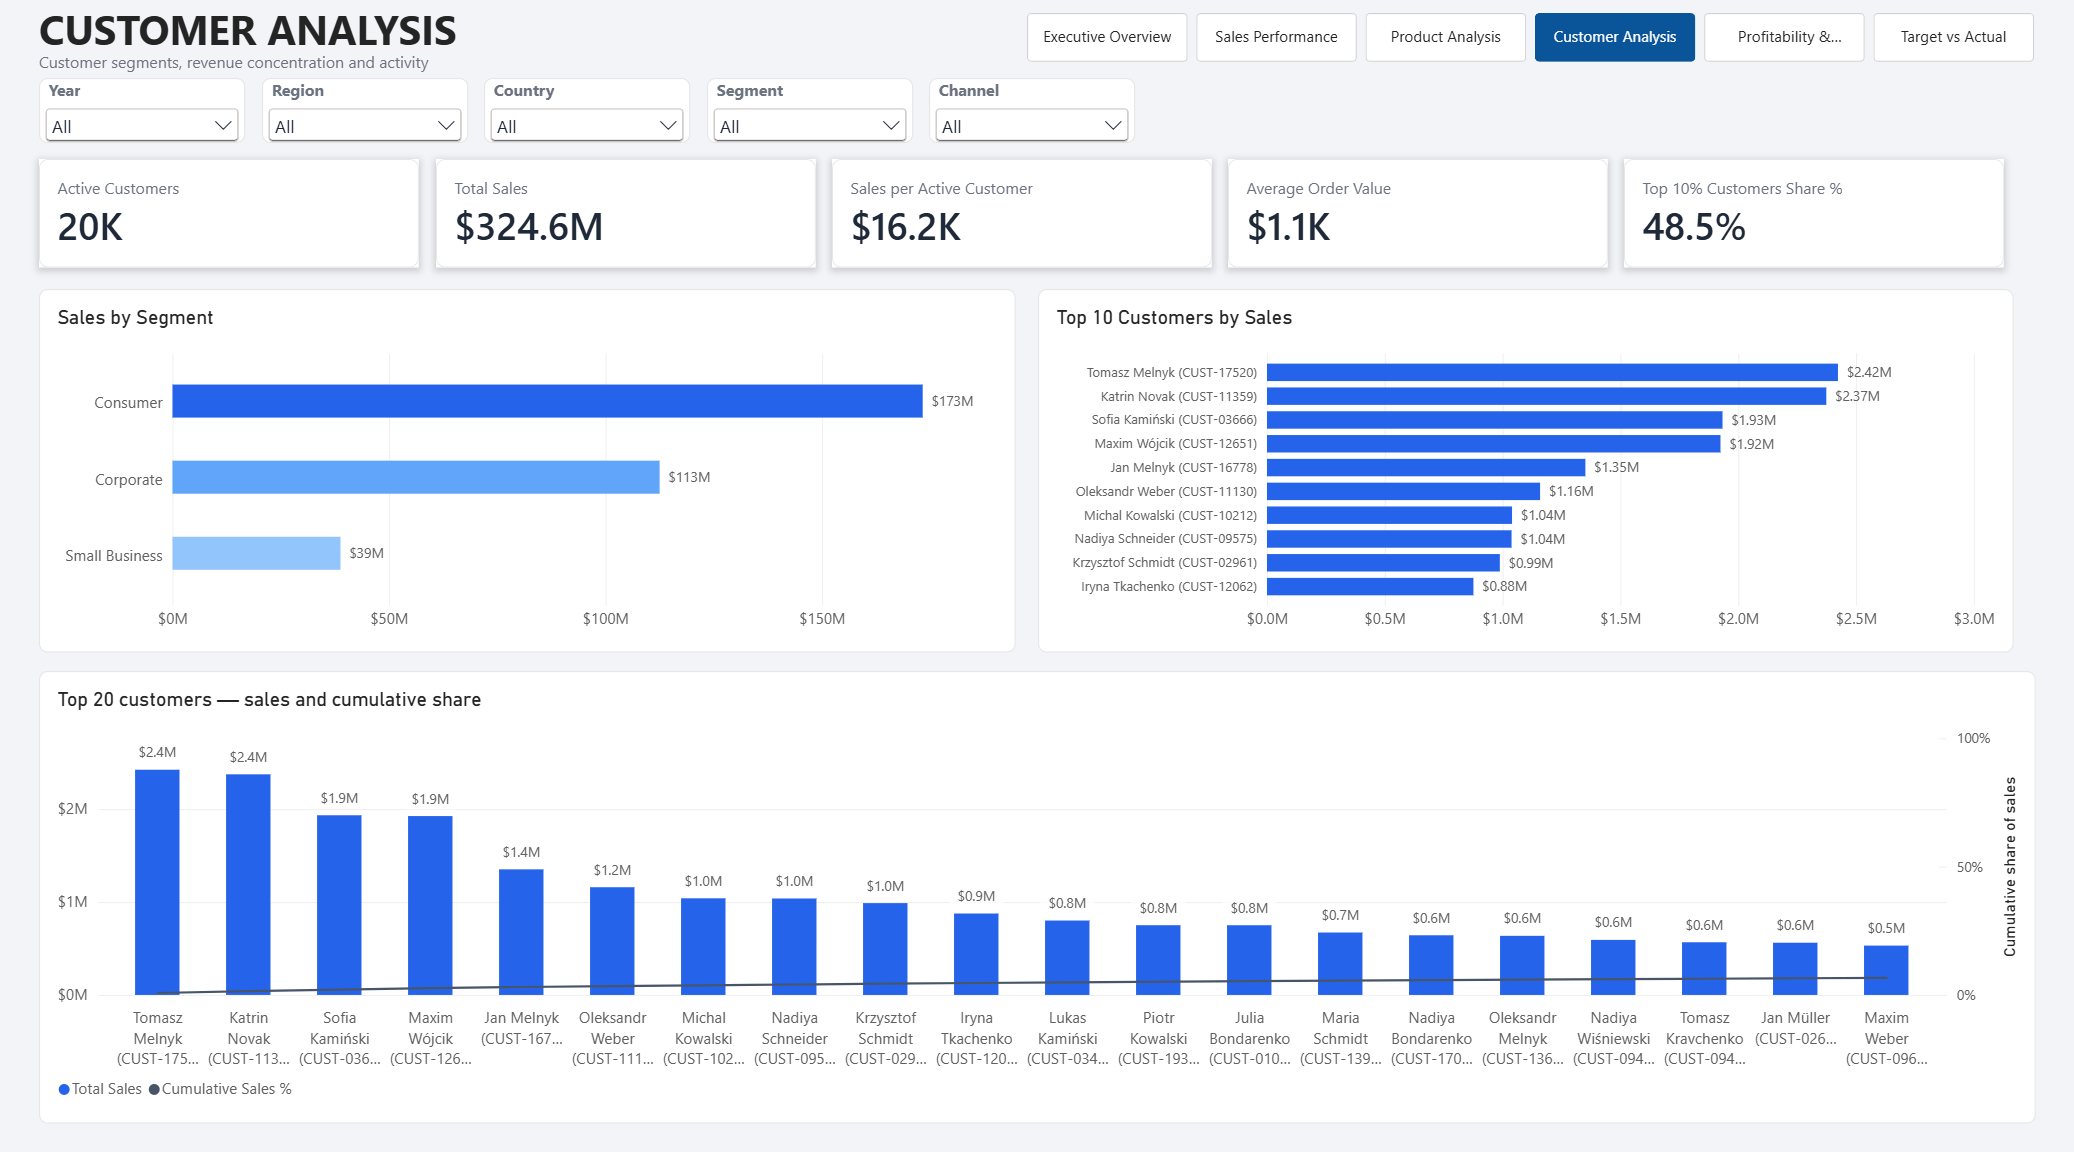

The dashboard page shown, as its layout file describes it:
{"tool":"powerbi","page":{"name":"Customer Analysis","canvas":[1920,1080],"ordinal":3},"visuals":[{"type":"slicer","fields":{"Values":["DimCustomers.Segment"]},"box":[655,80,190,60],"z":0},{"type":"slicer","fields":{"Values":["DimCustomers.Country"]},"box":[450,80.5,190,60],"z":1000},{"type":"barChart","title":"Sales by Segment","fields":{"Category":["DimCustomers.Segment"],"Y":["_Measures.Total Sales"]},"box":[39.6,274.6,900.3,335.4],"z":2000},{"type":"barChart","title":"Top 10 Customers by Sales","fields":{"Category":["DimCustomers.Customer Label"],"Y":["_Measures.Total Sales"]},"box":[960.2,274.6,899.4,335.4],"z":3000},{"type":"lineClusteredColumnComboChart","title":"Top 20 customers — sales and cumulative share","fields":{"Category":["DimCustomers.Customer Label"],"Y":["_Measures.Total Sales"],"Y2":["_Measures.Cumulative Sales %"]},"box":[39.6,626.6,1840.2,416.5],"z":4000},{"type":"slicer","fields":{"Values":["DimDate.Year"]},"box":[40,80,190,60],"z":5000},{"type":"slicer","fields":{"Values":["DimRegion.Region"]},"box":[245,80,190,60],"z":6000},{"type":"slicer","fields":{"Values":["FactSales.Channel"]},"box":[860,80.5,190,60],"z":7000},{"type":"pageNavigator","box":[950,20,930,45.2],"z":8000},{"type":"textbox","box":[40,10,700,50],"z":9000},{"type":"cardVisual","fields":{"Data":["_Measures.Active Customers"]},"box":[40,155,350,100],"z":10000},{"type":"cardVisual","fields":{"Data":["_Measures.Total Sales"]},"box":[405,155,350,100],"z":11000},{"type":"cardVisual","fields":{"Data":["_Measures.Sales per Active Customer"]},"box":[770,155,350,100],"z":12000},{"type":"cardVisual","fields":{"Data":["_Measures.Average Order Value"]},"box":[1135,155.1,350,100],"z":13000},{"type":"textbox","box":[40,55,800,20],"z":14000},{"type":"cardVisual","fields":{"Data":["_Measures.Top 10% Customers Share %"]},"box":[1500,155,350,100],"z":15000}]}

Visuals, with their boxes in screenshot pixels (x1, y1, x2, y2), scaled from the page's 1920x1080 canvas onto the 2074x1152 screenshot:
slicer - DimCustomers.Segment: (708, 85, 913, 149)
slicer - DimCustomers.Country: (486, 86, 691, 150)
"Sales by Segment" barChart: (43, 293, 1015, 651)
"Top 10 Customers by Sales" barChart: (1037, 293, 2009, 651)
"Top 20 customers — sales and cumulative share" lineClusteredColumnComboChart: (43, 668, 2031, 1113)
slicer - DimDate.Year: (43, 85, 248, 149)
slicer - DimRegion.Region: (265, 85, 470, 149)
slicer - FactSales.Channel: (929, 86, 1134, 150)
pageNavigator: (1026, 21, 2031, 70)
textbox: (43, 11, 799, 64)
cardVisual - _Measures.Active Customers: (43, 165, 421, 272)
cardVisual - _Measures.Total Sales: (437, 165, 816, 272)
cardVisual - _Measures.Sales per Active Customer: (832, 165, 1210, 272)
cardVisual - _Measures.Average Order Value: (1226, 165, 1604, 272)
textbox: (43, 59, 907, 80)
cardVisual - _Measures.Top 10% Customers Share %: (1620, 165, 1998, 272)
